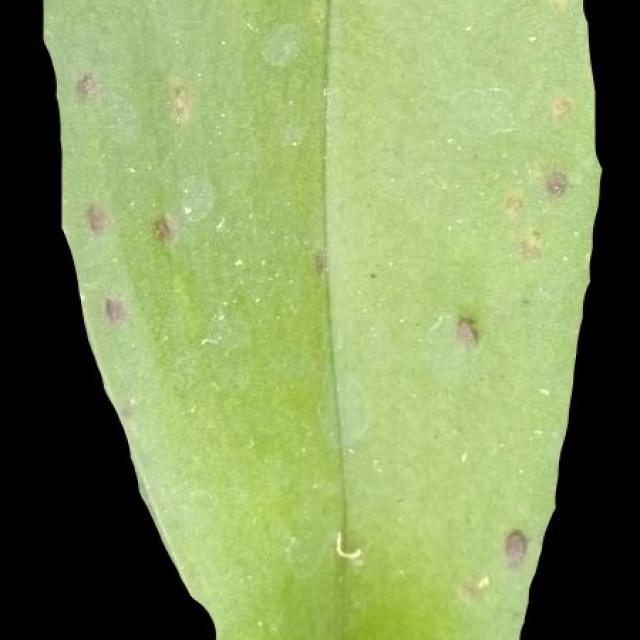mite: (84, 162, 577, 353), (447, 164, 573, 350), (259, 20, 303, 68), (536, 162, 575, 205), (543, 169, 567, 198)
spots: (40, 0, 602, 639)
sunburn: (449, 310, 484, 351)
